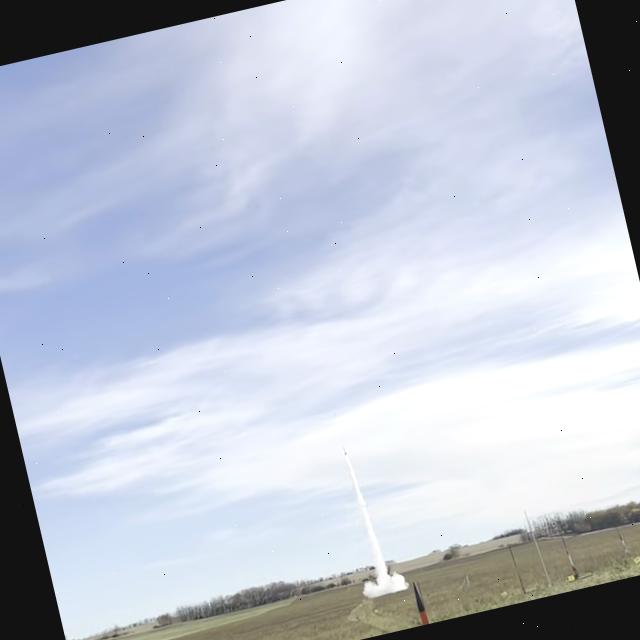smoke_trail_with_rocket: (343, 448, 405, 599)
